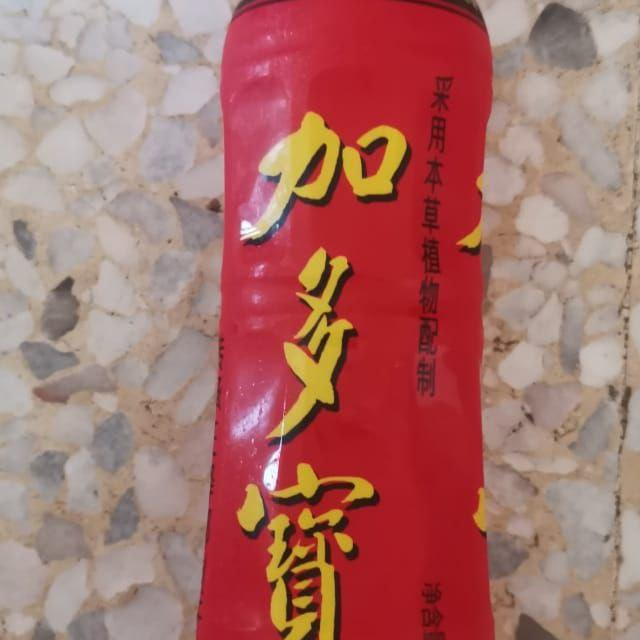plastic: (37, 0, 530, 640)
